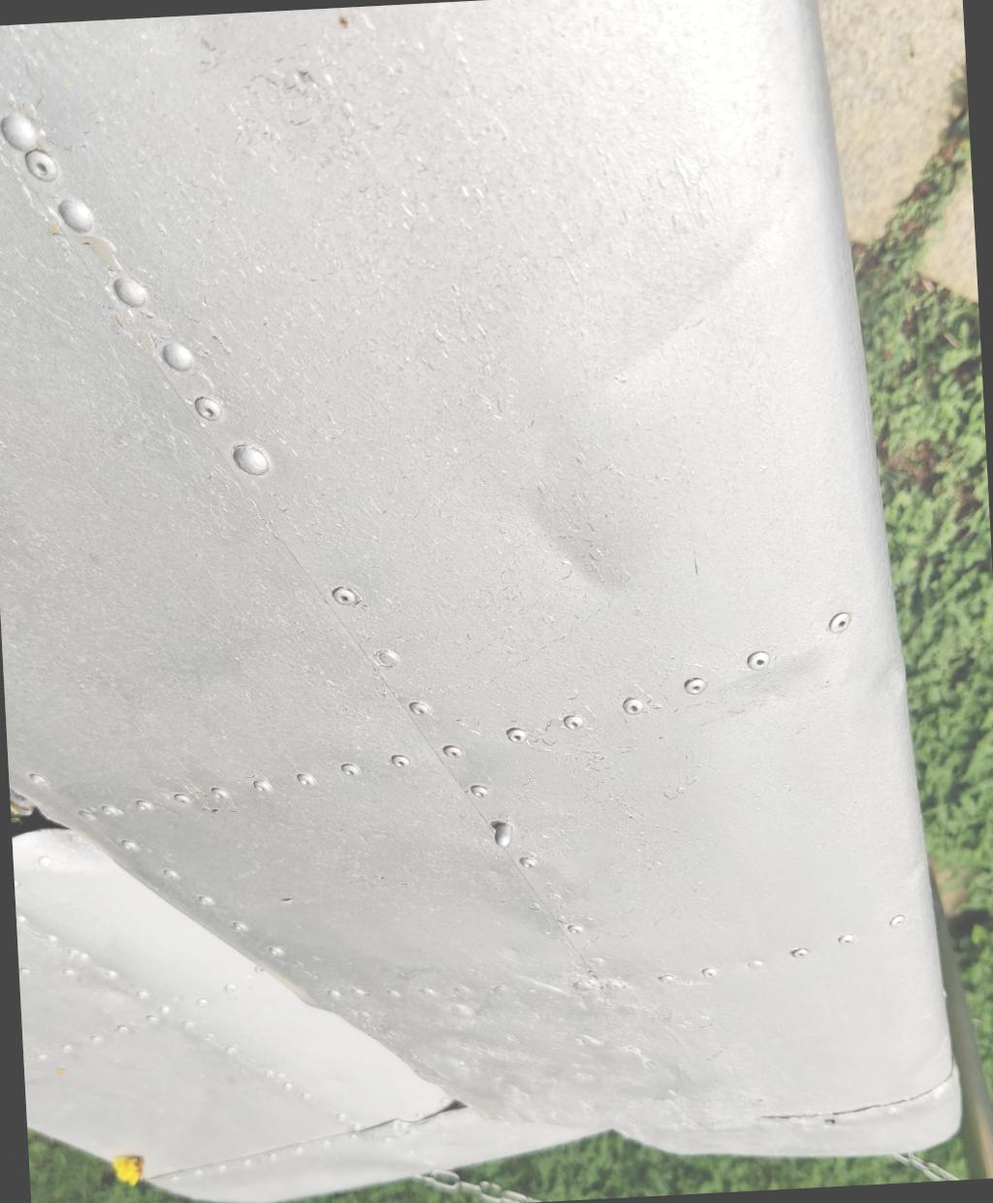dent: (557, 163, 846, 428), (480, 441, 669, 670)
